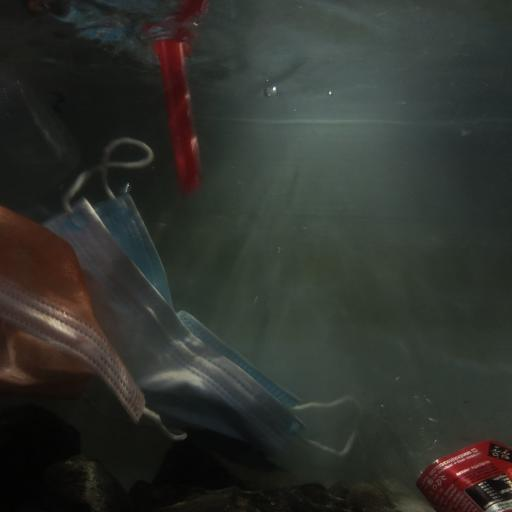mask: (43, 136, 363, 465), (0, 208, 185, 455), (372, 369, 512, 512)
plastic_straw: (154, 38, 202, 192)
